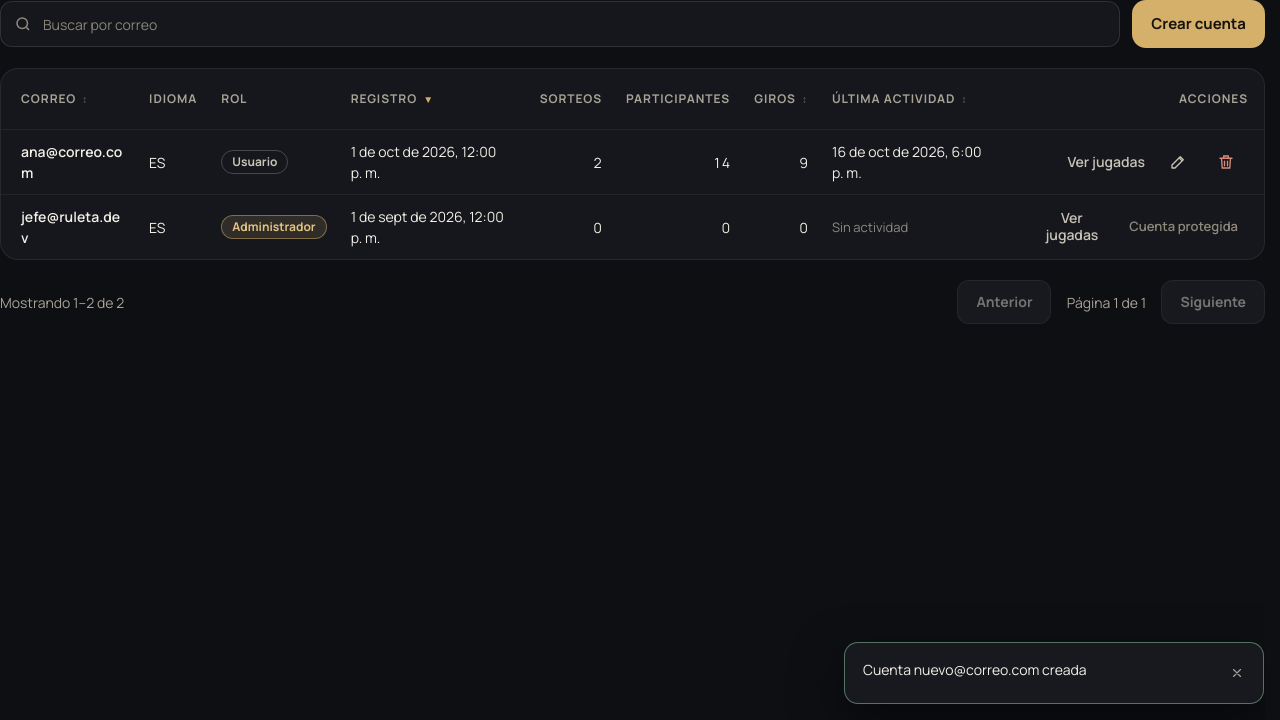
Scenario: UsersTab (administración) › 409 user.email.duplicate → error bajo el correo y el diálogo sigue abierto
Expected: the text "ana@correo.com" is shown, x1=1 y1=130 x2=137 y2=194
Click the button "Crear cuenta" at (1199, 24), box x1=1132 y1=0 x2=1265 y2=48
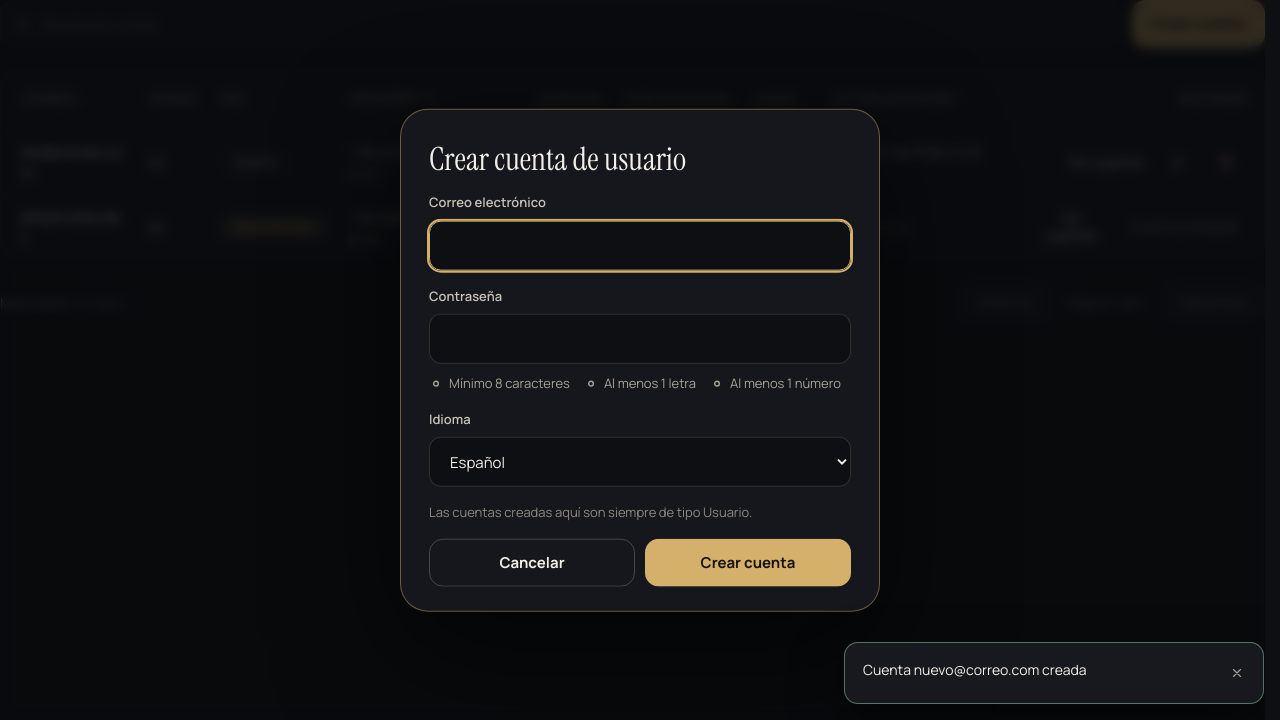
Type "ana@correo.com" into the field labelled "Correo electrónico" at (640, 245), box x1=429 y1=220 x2=851 y2=270
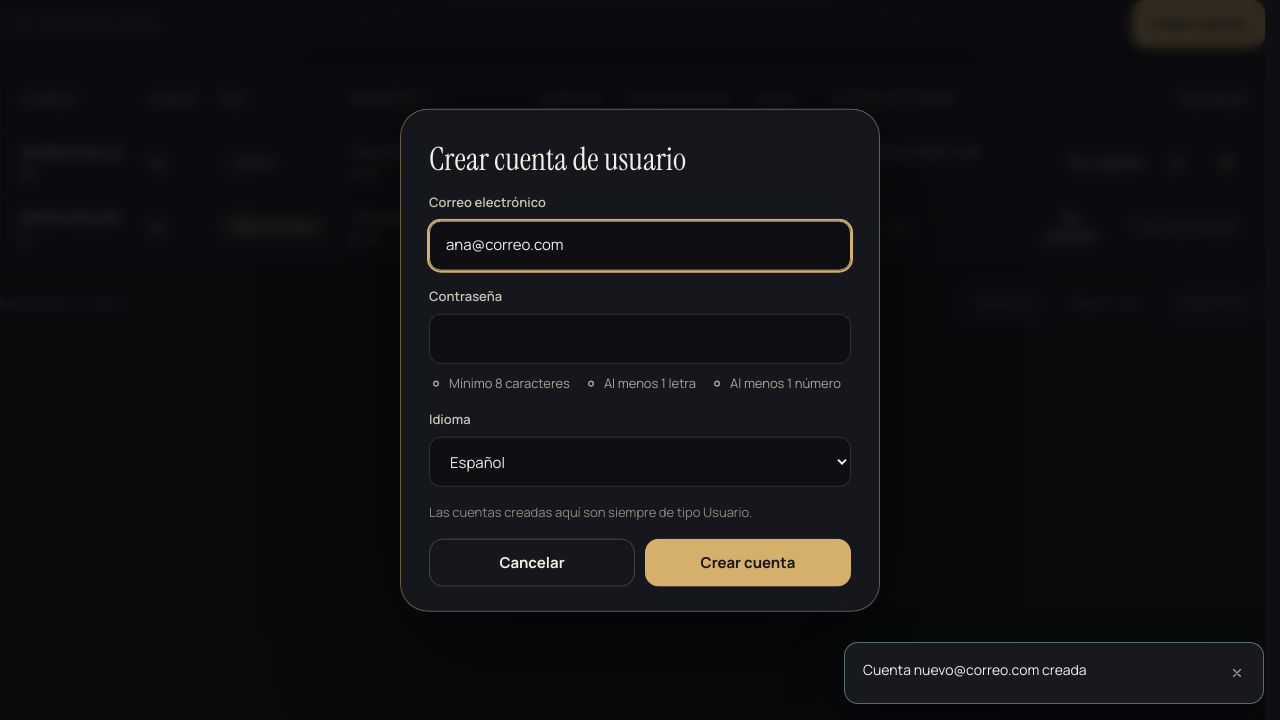
Type "clave1234" into the password field labelled "Contraseña" at (640, 339), box x1=429 y1=314 x2=851 y2=364
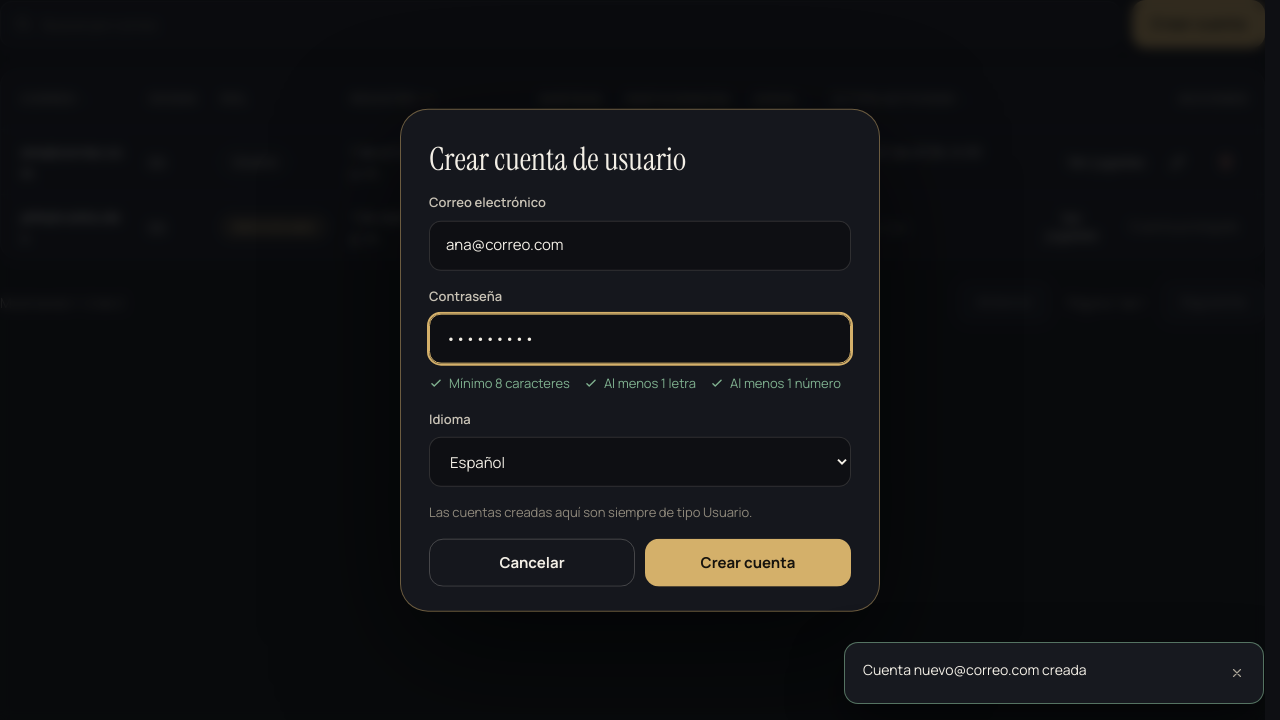
Click the button "Crear cuenta" at (748, 562), box x1=645 y1=538 x2=851 y2=586
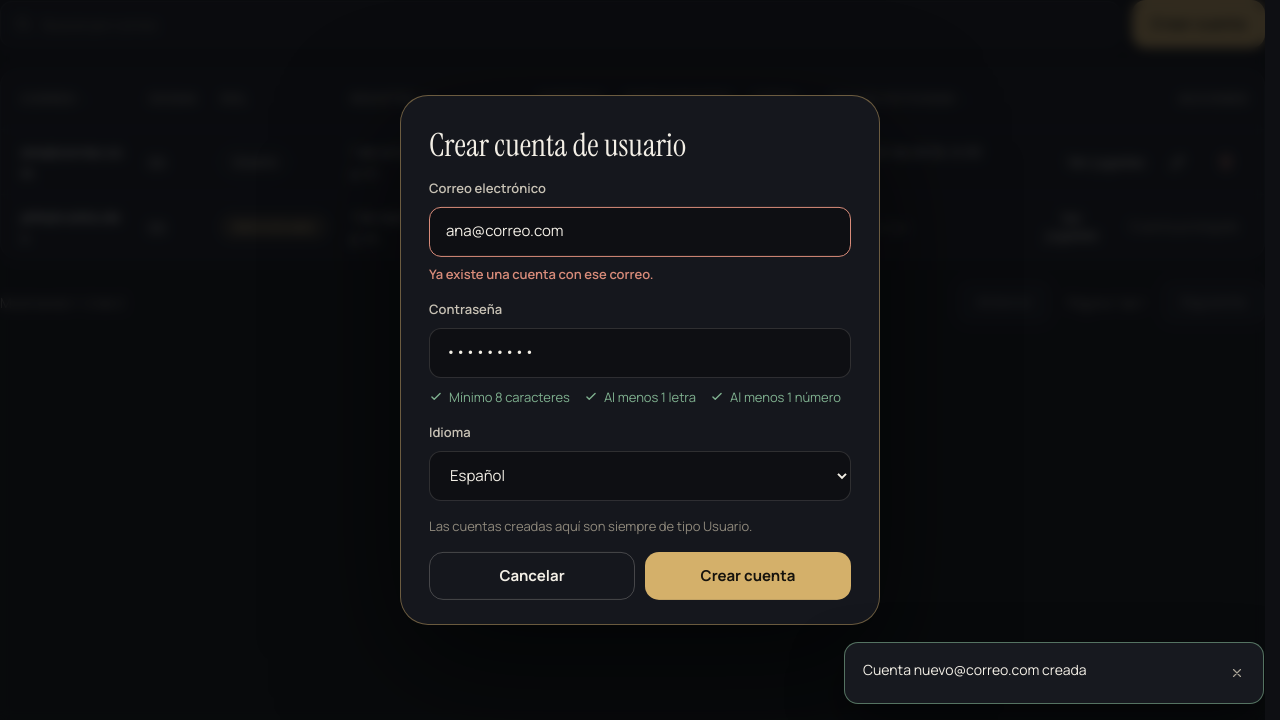
Now the dialog is shown, box x1=400 y1=95 x2=880 y2=625
Now the text "Ya existe una cuenta con ese correo." is shown, box x1=429 y1=265 x2=654 y2=283
